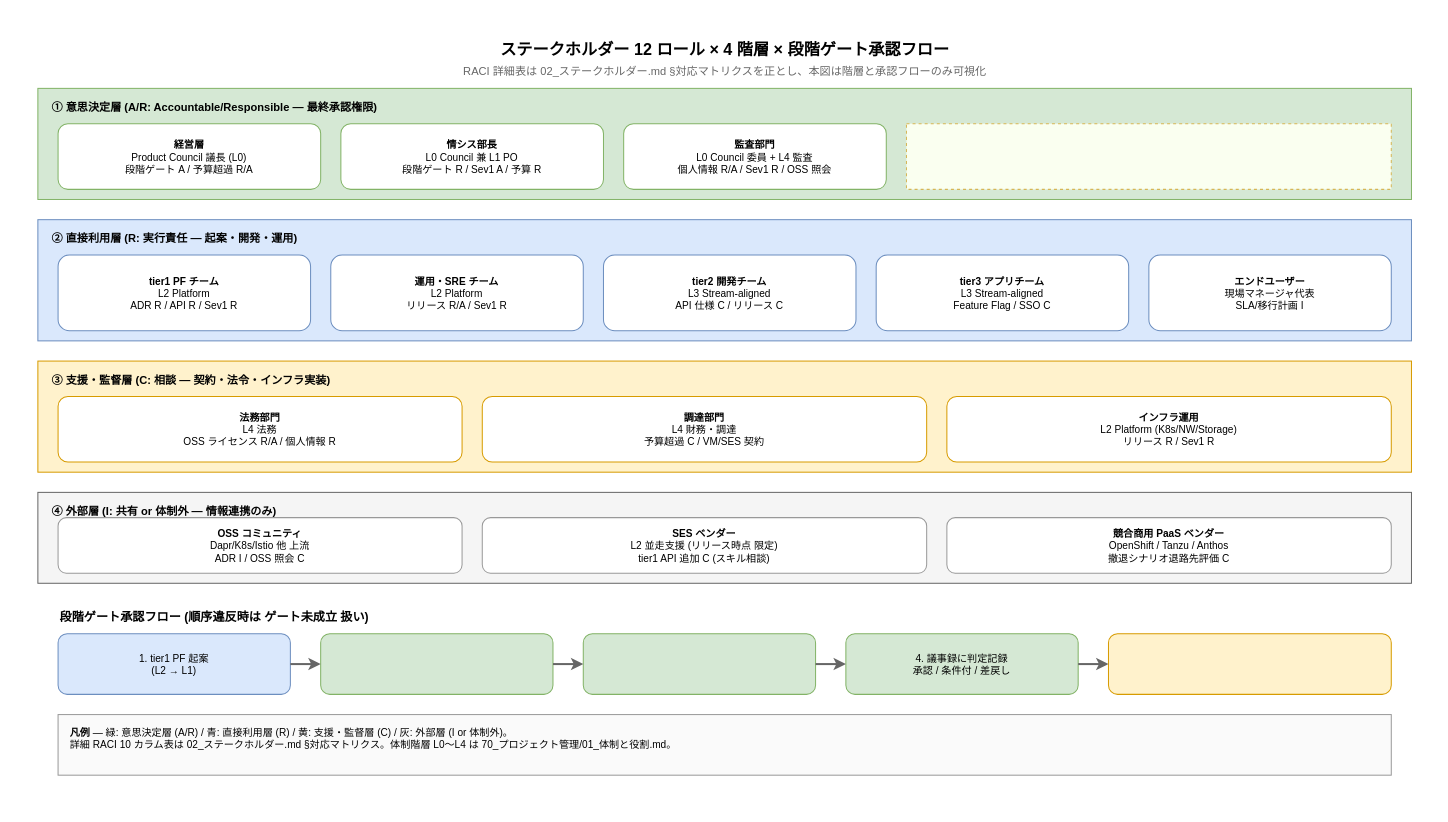
Image size: 1448x822. Some labels were removed from this diagram. The centre of each missing label's shape, as x and y in pixels:
2. 情シス部長(R)確認 ゲート判定資料レビュー: (x=436, y=663)
3. Product Council 合議 経営層 A / 監査 C / 法務 C: (x=699, y=663)
5. 企画要件マトリクスを "承認済"へ更新: (x=1249, y=663)
意思決定層ルール: 段階ゲート承認は Product Council (L0) 合議必須。: (x=1148, y=156)
